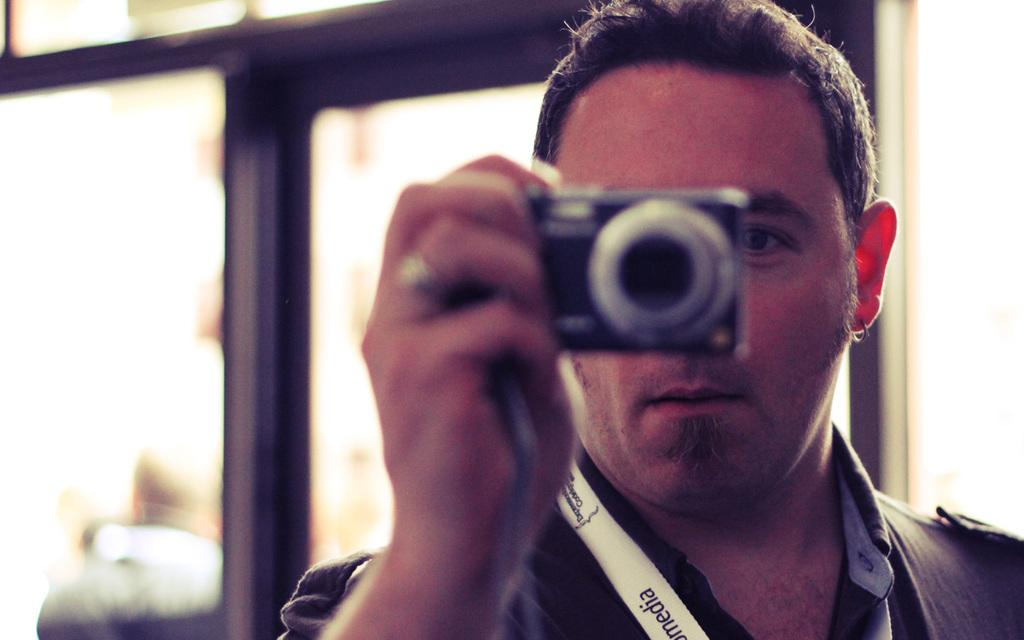Sem Máscara: (551, 63, 844, 511)
